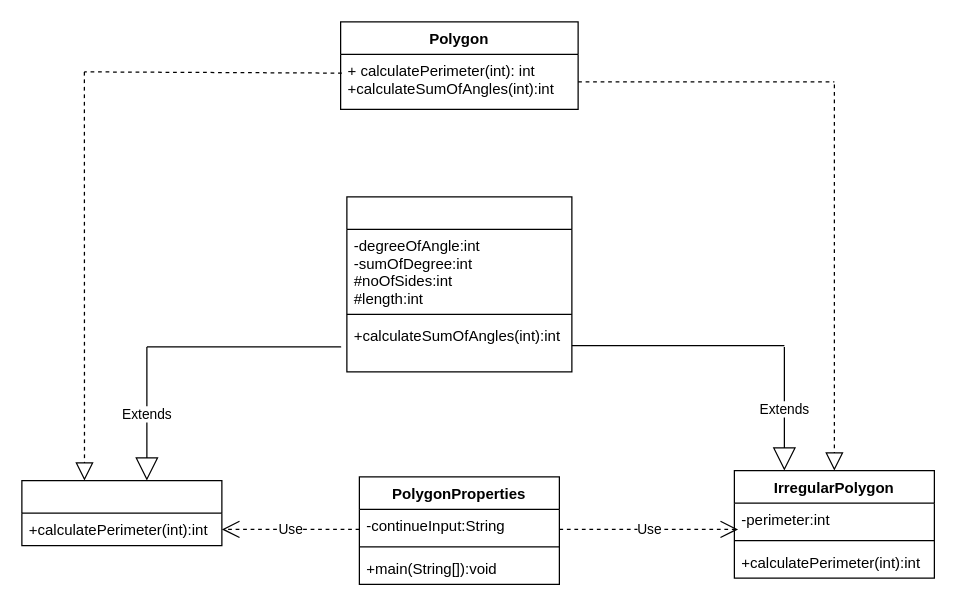
Some shapes in this 956 by 610 pixel diagram are drawn without their labels. The box of each missing label's shape, as (x1, y1, x2, y2) in pixels:
PolygonAngle: (346, 196, 572, 372)
RegularPolygon: (21, 479, 222, 546)
